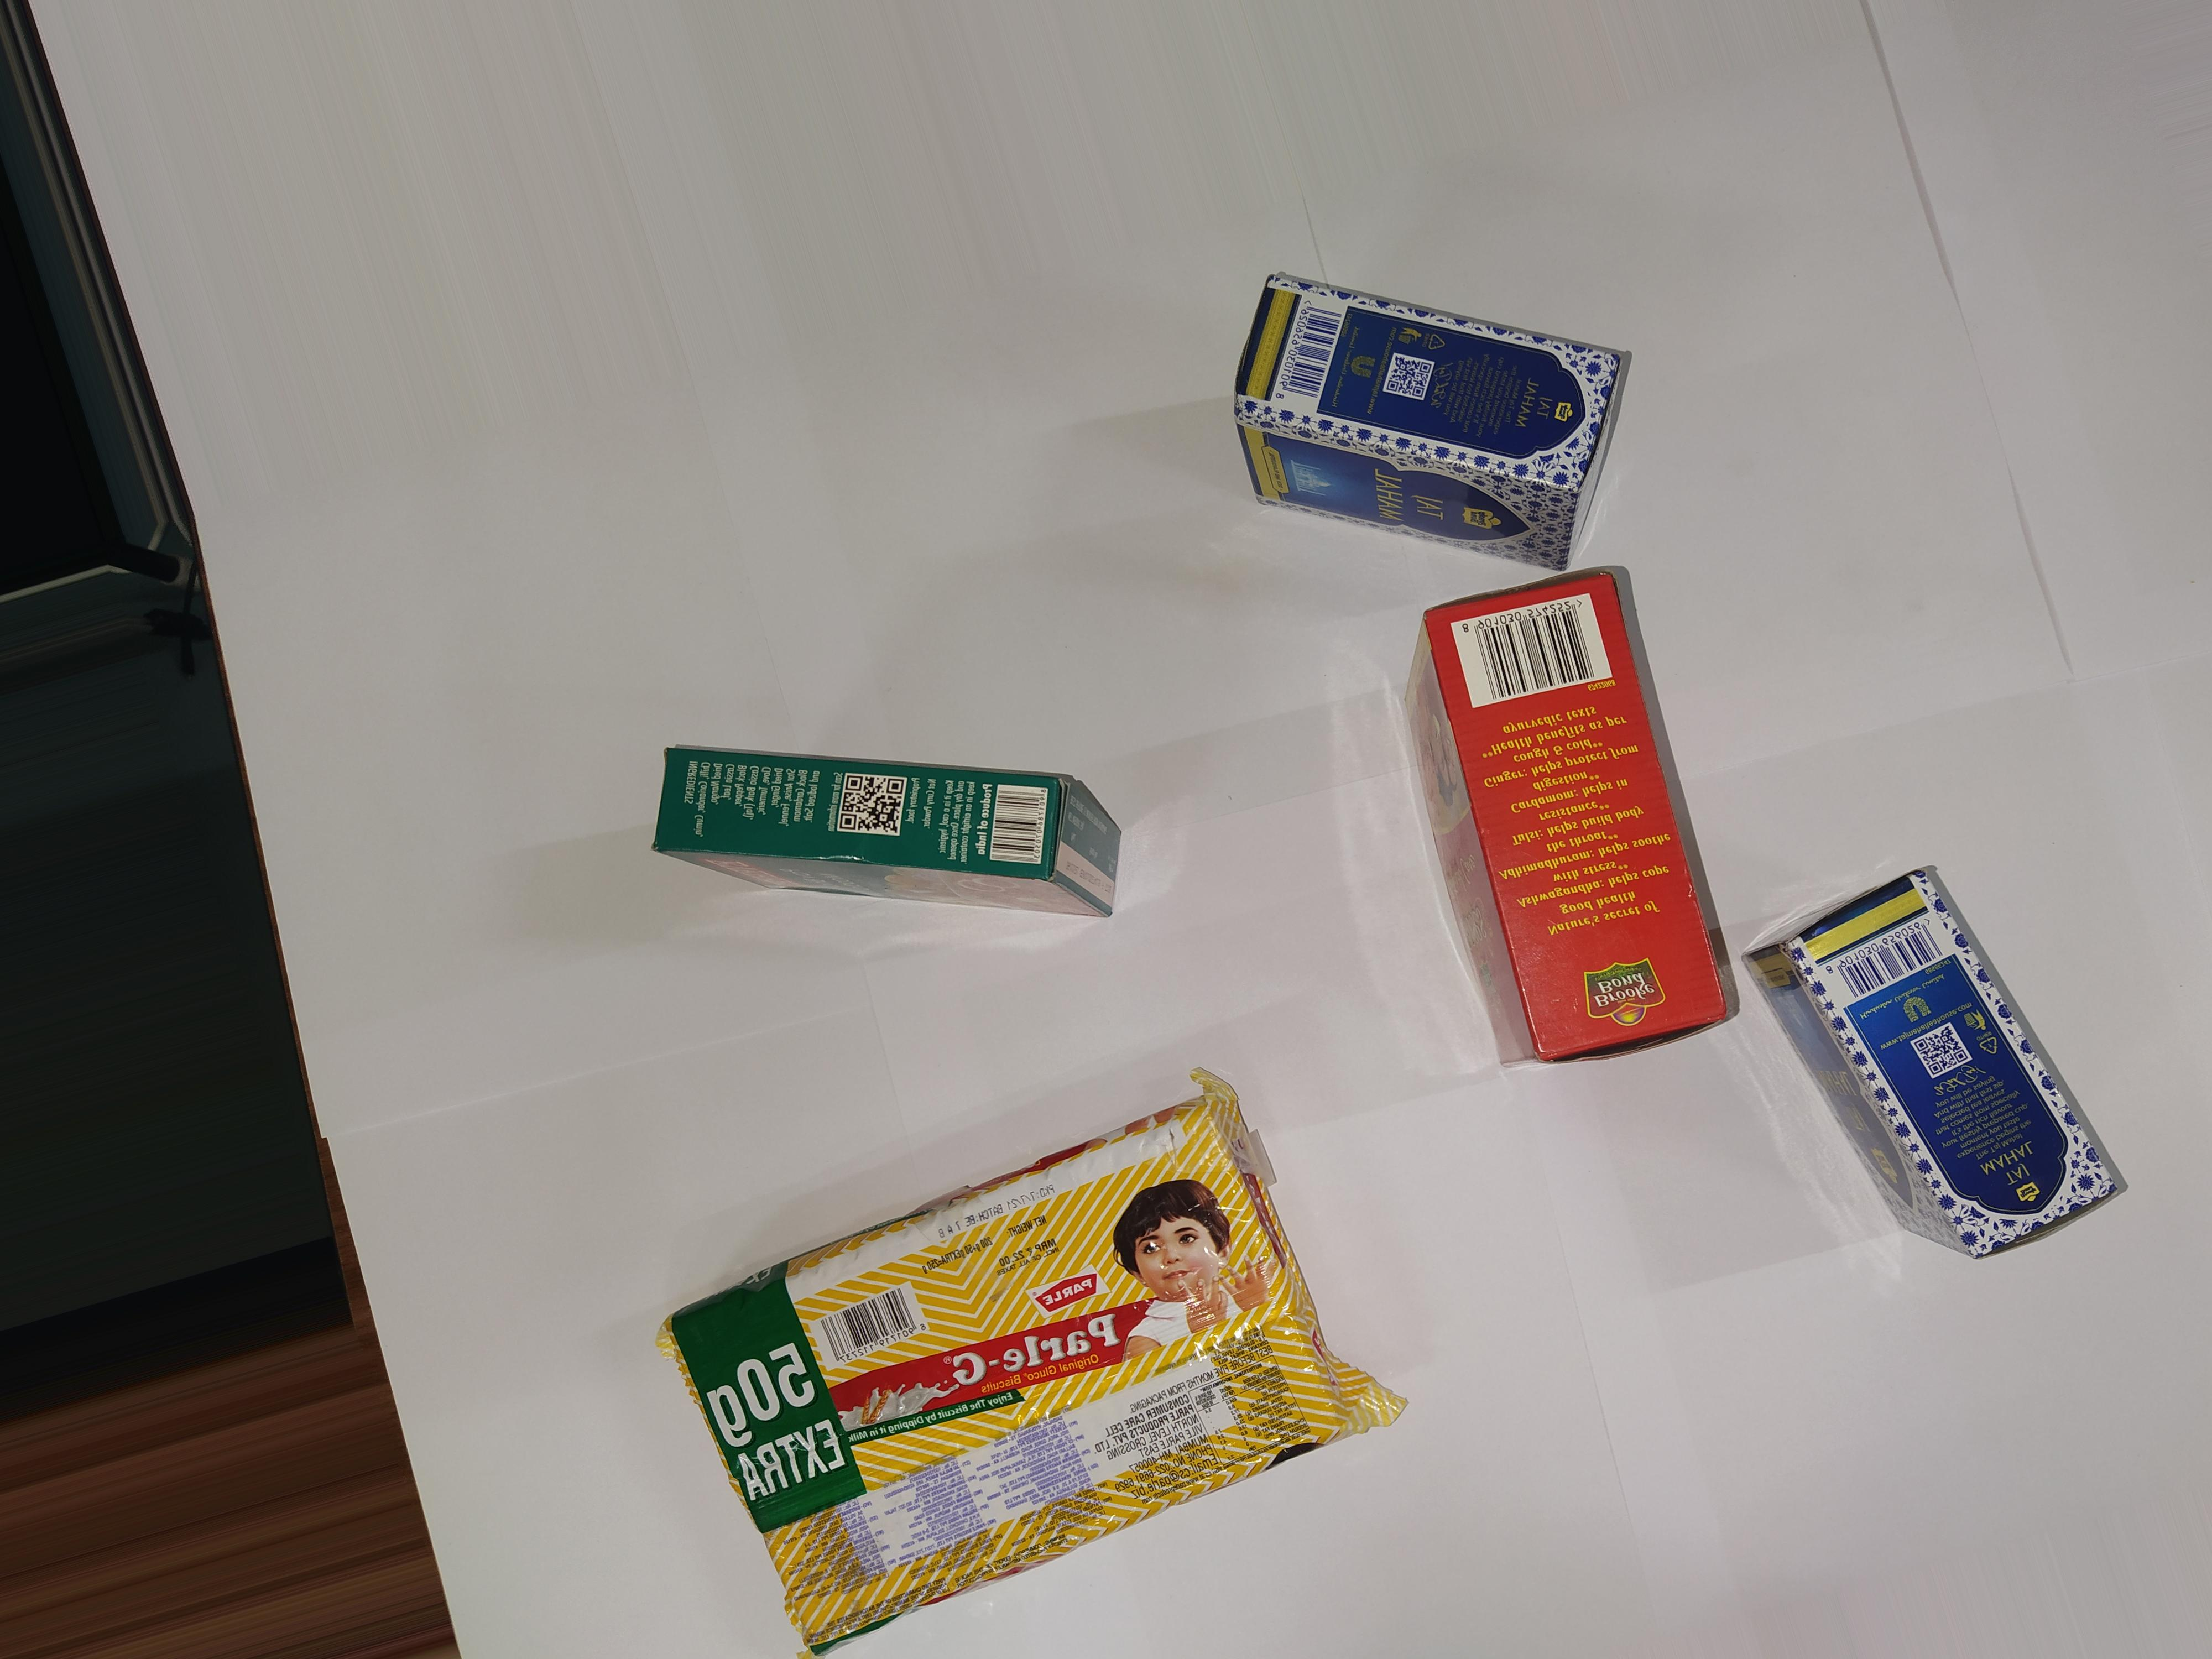Bar_code: (1446, 592, 1627, 720), (1804, 920, 1987, 993), (817, 1279, 954, 1366), (1266, 289, 1352, 411), (986, 777, 1062, 884)
Item: (631, 1068, 1409, 1656), (1404, 559, 1754, 1141), (1743, 812, 2148, 1307), (1221, 260, 1649, 577), (651, 720, 1158, 939)
QR_code: (834, 762, 916, 840), (1378, 342, 1444, 406), (1911, 1019, 1973, 1086)
